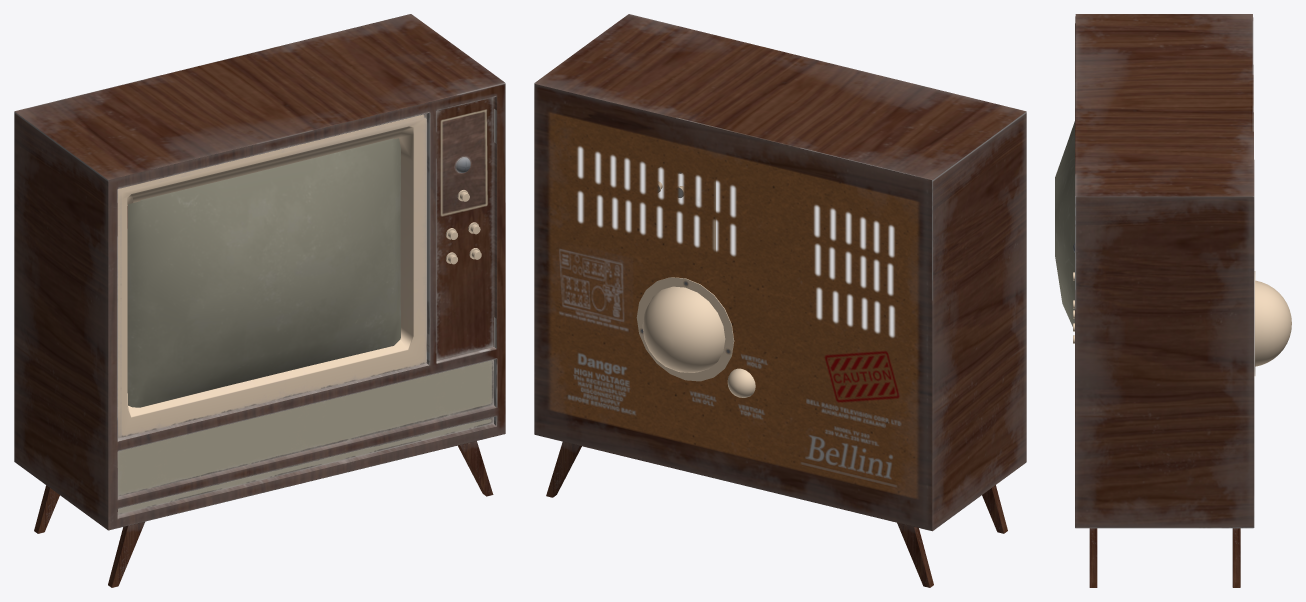
Rendered from television_set_80a0f58d.glb.
The picture shows the model from 3 angles, left to right: view 1: azimuth 30°, elevation 25°; view 2: azimuth 150°, elevation 25°; view 3: azimuth 270°, elevation 25°; orthographic projection. The views are drawn at different scales.
Visible parts, largest first — view 1: pCube7, pPlane1, pCube2, pCube5, pCube4; view 2: pCube7, pSphere4, pCube4, pCube6, pSphere5, pCube2; view 3: pCube7, pPlane1, pSphere4, pCube5, pCube6.
Part boxes in pixels (box(x1,y1,x2,y2)): pCube7: box(14, 14, 505, 530); pPlane1: box(127, 138, 400, 407); pCube2: box(108, 521, 144, 587); pCube5: box(458, 441, 493, 496); pCube4: box(34, 485, 59, 533); pCube7: box(534, 14, 1026, 531); pSphere4: box(636, 277, 734, 381); pCube4: box(897, 522, 933, 587); pCube6: box(546, 441, 581, 497); pSphere5: box(727, 368, 755, 397); pCube2: box(982, 485, 1007, 533); pCube7: box(1075, 14, 1254, 528); pPlane1: box(1055, 121, 1074, 326); pSphere4: box(1254, 271, 1291, 375); pCube5: box(1089, 528, 1097, 587); pCube6: box(1232, 528, 1240, 587).
Size of the model in its own units: 5.15 by 5.16 by 2.82.
1 material, 1 textured.
